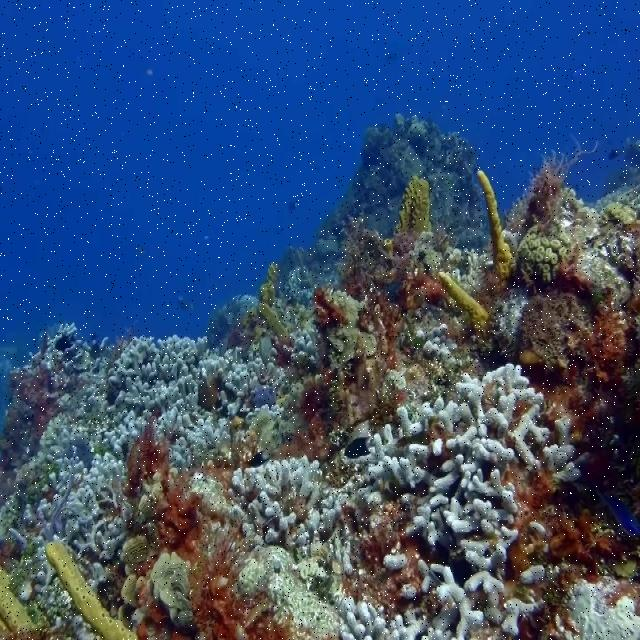reefs: (231, 364, 588, 639), (17, 321, 291, 622), (45, 537, 137, 639), (475, 170, 518, 276), (436, 271, 487, 329), (0, 569, 38, 639), (394, 174, 432, 233)
